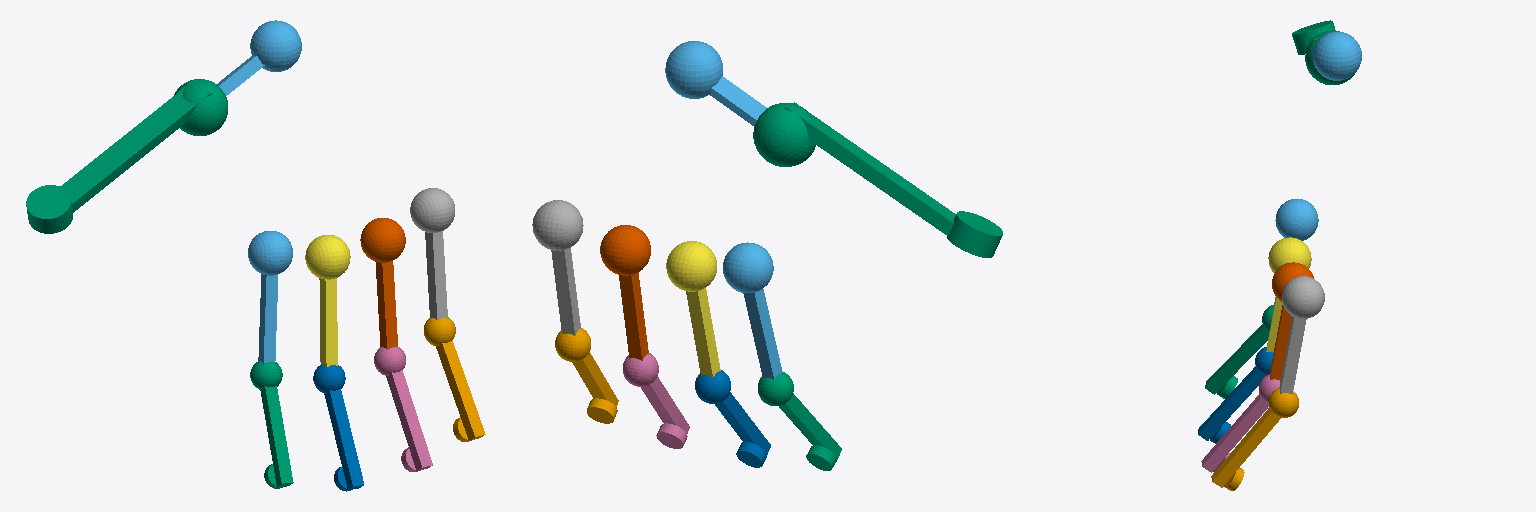
The robot description file, URDF, robot "ability_hand":
<!--
	NOTES:
	Units:
		Distance: m
		Angles: rad (only option)
		Mass: kg
		Inertia: kg*m^2
		
	Notes on intertia:
		-The inertias are calculated for uniform density with weights that may or may not be accurate.
		At the time of this writing only the thumb flexor weight is correct. The palm is a 'best guess' 
		approximation and the fingers are likely off by an order of magnitude
	
	Notes on finger q2:
		-The hand is a 4 bar linkage mechanism forming an 'X'. 4 bar linkages are not supported in the 
		urdf format. The motion of the second finger joint is fully defined by the motion of the first 
		finger joint. The calculation to find the index finger second joint angle given the first is provided
		in a matlab script elsewhere in this repository.
-->
<robot name="ability_hand">

	<link name="base" >
		<inertial>
			<mass value = "0.400"/>
			<inertia ixx="978.26e-6" ixy = "87.34e-6" ixz = "322.99e-6" iyy = "1244.78e-6" iyz = "244.74e-6" izz = "456.22e-6" />
			<origin xyz = "22.41911e-3 -0.15798201e-3 -0.01319866e-3" rpy = "0 0 0"/>
		</inertial>
						
		<visual>
			<origin rpy = "0 0 0" xyz = "0 0 0"/>
			<geometry>
				<mesh filename="models/FB_palm_ref.STL"/>
			</geometry>
		</visual>		
		<visual>
			<origin rpy = "0 0 0" xyz = "0 0 0"/>
			<geometry>
				<mesh filename="models/WRISTADAPTER.STL"/>
			</geometry>
		</visual>		
	</link>
	
	
	
	<link name="index_L1" >
		<inertial>
			<mass value = "0.00635888"/>
			<inertia ixx="0.29766e-6" ixy = "-0.06447133e-6" ixz = "-0.00423315e-6" iyy = "3.6947967e-6" iyz = "0.00083028e-6" izz = "3.8176336e-6" />
			<origin xyz = "22.41911e-3 -0.15798201e-3 -0.01319866e-3" rpy = "0 0 0"/>
		</inertial>
		<visual>
			<origin xyz = "0 0 0" rpy = "0 0 0"/>
			<geometry>
				<!--<cylinder length="8" radius="7"/>-->
				<sphere radius = "7e-3"/>
			</geometry>
		</visual>
		<visual>
			<origin xyz = "19.23500e-3 1.62500e-3 0" rpy = "0 0 0.084474"/>
			<geometry>	
				<box size = "38.6070382e-3 4e-3 4e-3"/>
			</geometry>
		</visual>
		<visual>
			<origin xyz = "38.472723e-3 3.257695e-3 0.000000" rpy = "0 0 0.084474"/>
			<geometry>
				<mesh filename="models/idx-F1.STL"/>
			</geometry>
		</visual>
	</link>
	<link name="index_L2" >
		<inertial>
			<mass value = "0.00645"/>
			<inertia ixx="0.82671e-6" ixy = "-1.08876e-6" ixz = "-0.00037e-6" iyy = "1.98028e-6" iyz = "0.00081e-6" izz = "2.64638e-6" />
			<origin rpy = "0 0 0" xyz = "13.36818e-3 -8.75392e-3 -0.02886e-3"/>
		</inertial>		
		<visual>
			<origin xyz = "0 0 0" rpy = "0 0 0"/>
			<geometry>
				<sphere radius = "5e-3"/>
			</geometry>
		</visual>
		<visual>
			<origin xyz = "15.5333e-3 -8.501e-3 0" rpy = "0 0 -0.500734962"/>
			<geometry>	
				<box size = "35.41e-3 4e-3 4e-3"/>
			</geometry>
		</visual>
		<visual>
			<origin xyz = "29.159500e-3 -11.643970e-3 -0.148280e-3" rpy = "1.5708 0 -0.420107"/>
			<geometry>
				<cylinder length = "3e-3" radius = "4e-3"/>
			</geometry>
		</visual>
		<visual>
			<origin rpy = "0 0 0" xyz = "9.1241e-3 0 0"/>
			<geometry>
				<mesh filename="models/idx-F2.STL"/>
			</geometry>
		</visual>
	</link>
	<joint name="index_q1" type="revolute">
		<parent link="base"/>
		<child link="index_L1"/>
		<origin xyz = "-9.49e-3 -13.04e-3 -62.95e-3" rpy = "-1.982050 1.284473 -2.090591" />
		<axis xyz="0 0 1"/>
		<limit lower = "0" upper = "2.0943951" effort = "0.20" velocity = "8.0677777442"/>		<!-- angles in rad, efforts in N-m, velocity in rad/s -->
		<dynamics damping = "0.001" friction = "0.001" />	<!-- Friction coefficient is not from quantitative measurement -->
	</joint>
	<joint name="index_q2" type="revolute">
		<parent link="index_L1"/>
		<child link="index_L2"/>
		<origin xyz = "38.472723e-3 3.257695e-3 0.000000e-3" rpy = "0 0 0.084474"/>
		<axis xyz="0 0 1"/>
		<limit lower = "0.0" upper = "2.6586" effort = "0.20" velocity = "8.0677777442"/>		<!-- angles in rad, efforts in N-m, velocity in rad/s -->
		<dynamics damping = "0.001" friction = "0.001" />	<!-- Friction coefficient is not from quantitative measurement -->
	</joint>
	
	

	<link name="middle_L1" >
		<inertial>
			<mass value = "0.00635888"/>
			<inertia ixx="0.29766e-6" ixy = "-0.06447133e-6" ixz = "-0.00423315e-6" iyy = "3.6947967e-6" iyz = "0.00083028e-6" izz = "3.8176336e-6" />
			<origin xyz = "22.41911e-3 -0.15798201e-3 -0.01319866e-3" rpy = "0 0 0"/>
		</inertial>
		<visual>
			<origin xyz = "0 0 0" rpy = "0 0 0"/>
			<geometry>
				<!--<cylinder length="8" radius="7"/>-->
				<sphere radius = "7e-3"/>
			</geometry>
		</visual>
		<visual>
			<origin xyz = "19.23500e-3 1.62500e-3 0" rpy = "0 0 0.084474"/>
			<geometry>	
				<box size = "38.6070382e-3 4e-3 4e-3"/>
			</geometry>
		</visual>
		
		<visual>
			<origin xyz = "38.472723e-3 3.257695e-3 0.000000" rpy = "0 0 0.084474"/>
			<geometry>
				<mesh filename="models/idx-F1.STL"/>
			</geometry>
		</visual>
		
	</link>
	<link name="middle_L2" >
		<inertial>
			<mass value = "0.00645"/>
			<inertia ixx="0.82671e-6" ixy = "-1.08876e-6" ixz = "-0.00037e-6" iyy = "1.98028e-6" iyz = "0.00081e-6" izz = "2.64638e-6" />
			<origin rpy = "0 0 0" xyz = "13.36818e-3 -8.75392e-3 -0.02886e-3"/>
		</inertial>
		<visual>
			<origin xyz = "0 0 0" rpy = "0 0 0"/>
			<geometry>
				<sphere radius = "5e-3"/>
			</geometry>
		</visual>
		<visual>
			<origin xyz = "15.5333e-3 -8.501e-3 0" rpy = "0 0 -0.500734962"/>
			<geometry>	
				<box size = "35.41e-3 4e-3 4e-3"/>
			</geometry>
		</visual>
		<visual>
			<origin xyz = "29.159500e-3 -11.643970e-3 -0.148280e-3" rpy = "1.5708 0 -0.420107"/>
			<geometry>
				<cylinder length = "3e-3" radius = "4e-3"/>
			</geometry>
		</visual>
		<visual>
			<origin rpy = "0 0 0" xyz = "9.1241e-3 0 0"/>
			<geometry>
				<mesh filename="models/idx-F2.STL"/>
			</geometry>
		</visual>
	</link>
	<joint name="middle_q1" type="revolute">
		<parent link="base"/>
		<child link="middle_L1"/>
		<origin xyz = "9.653191e-3 -15.310271e-3 -67.853949e-3" rpy = "-1.860531 1.308458 -1.896217" />
		<limit lower = "0" upper = "2.0943951" effort = "0.20" velocity = "8.0677777442"/>		<!-- angles in rad, efforts in N-m, velocity in rad/s -->
		<dynamics damping = "0.001" friction = "0.001" />	<!-- Friction coefficient is not from quantitative measurement -->
		<axis xyz="0 0 1"/>
	</joint>
	<joint name="middle_q2" type="revolute">
		<parent link="middle_L1"/>
		<child link="middle_L2"/>
		<origin xyz = "38.472723e-3 3.257695e-3 0.000000" rpy = "0 0 0.084474"/>
		<axis xyz="0 0 1"/>
		<limit lower = "0.0" upper = "2.6586" effort = "0.20" velocity = "8.0677777442"/>		<!-- angles in rad, efforts in N-m, velocity in rad/s -->
		<dynamics damping = "0.001" friction = "0.001" />	<!-- Friction coefficient is not from quantitative measurement -->
	</joint>





	<link name="ring_L1" >
		<inertial>
			<mass value = "0.00635888"/>
			<inertia ixx="0.29766e-6" ixy = "-0.06447133e-6" ixz = "-0.00423315e-6" iyy = "3.6947967e-6" iyz = "0.00083028e-6" izz = "3.8176336e-6" />
			<origin xyz = "22.41911e-3 -0.15798201e-3 -0.01319866e-3" rpy = "0 0 0"/>
		</inertial>
		<visual>
			<origin xyz = "0 0 0" rpy = "0 0 0"/>
			<geometry>
				<sphere radius = "7e-3"/>
				<!--<cylinder length="8" radius="7"/>-->
			</geometry>
		</visual>
		<visual>
			<origin xyz = "19.23500e-3 1.62500e-3 0" rpy = "0 0 0.084474"/>
			<geometry>	
				<box size = "38.6070382e-3 4e-3 4e-3"/>
			</geometry>
		</visual>
		
		<visual>
			<origin xyz = "38.472723e-3 3.257695e-3 0.000000" rpy = "0 0 0.084474"/>
			<geometry>
				<mesh filename="models/idx-F1.STL"/>
			</geometry>
		</visual>
		
		
	</link>
	<link name="ring_L2" >
		<inertial>
			<mass value = "0.00645"/>
			<inertia ixx="0.82671e-6" ixy = "-1.08876e-6" ixz = "-0.00037e-6" iyy = "1.98028e-6" iyz = "0.00081e-6" izz = "2.64638e-6" />
			<origin rpy = "0 0 0" xyz = "13.36818e-3 -8.75392e-3 -0.02886e-3"/>
		</inertial>
		<visual>
			<origin xyz = "0 0 0" rpy = "0 0 0"/>
			<geometry>
				<sphere radius = "5e-3"/>
			</geometry>
		</visual>
		<visual>
			<origin xyz = "15.5333e-3 -8.501e-3 0" rpy = "0 0 -0.500734962"/>
			<geometry>	
				<box size = "35.41e-3 4e-3 4e-3"/>
			</geometry>
		</visual>
		<visual>
			<origin xyz = "29.159500e-3 -11.643970e-3 -0.148280e-3" rpy = "1.5708 0 -0.420107"/>
			<geometry>
				<cylinder length = "3e-3" radius = "4e-3"/>
			</geometry>
		</visual>
		
		<visual>
			<origin rpy = "0 0 0" xyz = "9.1241e-3 0 0"/>
			<geometry>
				<mesh filename="models/idx-F2.STL"/>
			</geometry>
		</visual>
		
	</link>
	<joint name="ring_q1" type="revolute">
		<parent link="base"/>
		<child link="ring_L1"/>
		<origin xyz = "29.954260e-3 -14.212492e-3 -67.286105e-3" rpy = "-1.716598 1.321452 -1.675862" />
		<limit lower = "0" upper = "2.0943951" effort = "0.20" velocity = "8.0677777442"/>		<!-- angles in rad, efforts in N-m, velocity in rad/s -->
		<dynamics damping = "0.001" friction = "0.001" />	<!-- Friction coefficient is not from quantitative measurement -->
		<axis xyz="0 0 1"/>
	</joint>
	<joint name="ring_q2" type="revolute">
		<parent link="ring_L1"/>
		<child link="ring_L2"/>
		<origin xyz = "38.472723e-3 3.257695e-3 0.000000" rpy = "0 0 0.084474"/>
		<axis xyz="0 0 1"/>
		<limit lower = "0.0" upper = "2.6586" effort = "0.20" velocity = "8.0677777442"/>		<!-- angles in rad, efforts in N-m, velocity in rad/s -->
		<dynamics damping = "0.001" friction = "0.001" />	<!-- Friction coefficient is not from quantitative measurement -->
	</joint>








	<link name="pinky_L1" >
		<inertial>
			<mass value = "0.00635888"/>
			<inertia ixx="0.29766e-6" ixy = "-0.06447133e-6" ixz = "-0.00423315e-6" iyy = "3.6947967e-6" iyz = "0.00083028e-6" izz = "3.8176336e-6" />
			<origin xyz = "22.41911e-3 -0.15798201e-3 -0.01319866e-3" rpy = "0 0 0"/>
		</inertial>
		<visual>
			<origin xyz = "0 0 0" rpy = "0 0 0"/>
			<geometry>
				<sphere radius = "7e-3"/>
			</geometry>
		</visual>
		<visual>
			<origin xyz = "19.23500e-3 1.62500e-3 0" rpy = "0 0 0.084474"/>
			<geometry>	
				<box size = "38.6070382e-3 4e-3 4e-3"/>
			</geometry>
		</visual>
		
		<visual>
			<origin xyz = "38.472723e-3 3.257695e-3 0.000000" rpy = "0 0 0.084474"/>
			<geometry>
				<mesh filename="models/idx-F1.STL"/>
			</geometry>
		</visual>
		
	</link>
	<link name="pinky_L2" >
		<inertial>
			<mass value = "0.00645"/>
			<inertia ixx="0.82671e-6" ixy = "-1.08876e-6" ixz = "-0.00037e-6" iyy = "1.98028e-6" iyz = "0.00081e-6" izz = "2.64638e-6" />
			<origin rpy = "0 0 0" xyz = "13.36818e-3 -8.75392e-3 -0.02886e-3"/>
		</inertial>
		<visual>
			<origin xyz = "0 0 0" rpy = "0 0 0"/>
			<geometry>
				<sphere radius = "5e-3"/>
			</geometry>
		</visual>
		<visual>
			<origin xyz = "15.5333e-3 -8.501e-3 0" rpy = "0 0 -0.500734962"/>
			<geometry>	
				<box size = "35.41e-3 4e-3 4e-3"/>
			</geometry>
		</visual>
		<visual>
			<origin xyz = "29.159500e-3 -11.643970e-3 -0.148280e-3" rpy = "1.5708 0 -0.420107"/>
			<geometry>
				<cylinder length = "3e-3" radius = "4e-3"/>
			</geometry>
		</visual>
		
		<visual>
			<origin rpy = "0 0 0" xyz = "9.1241e-3 0 0"/>
			<geometry>
				<mesh filename="models/idx-F2.STL"/>
			</geometry>
		</visual>
		
	</link>
	<joint name="pinky_q1" type="revolute">
		<parent link="base"/>
		<child link="pinky_L1"/>
		<origin xyz = "49.521293e-3 -11.004583e-3 -63.029065e-3" rpy = "-1.765110 1.322220 -1.658383" />
		<limit lower = "0" upper = "2.0943951" effort = "0.20" velocity = "8.0677777442"/>		<!-- angles in rad, efforts in N-m, velocity in rad/s -->
		<dynamics damping = "0.001" friction = "0.001" />	<!-- Friction coefficient is not from quantitative measurement -->
		<axis xyz="0 0 1"/>
	</joint>
	<joint name="pinky_q2" type="revolute">
		<parent link="pinky_L1"/>
		<child link="pinky_L2"/>
		<origin xyz = "38.472723e-3 3.257695e-3 0.000000" rpy = "0 0 0.084474"/>
		<limit lower = "0.0" upper = "2.6586" effort = "0.20" velocity = "8.0677777442"/>		<!-- angles in rad, efforts in N-m, velocity in rad/s -->
		<dynamics damping = "0.001" friction = "0.001" />	<!-- Friction coefficient is not from quantitative measurement -->
		<axis xyz="0 0 1"/>
	</joint>






	<link name="thumb_L1" >
		<inertial>
			<mass value = "0.00268342"/>
			<inertia ixx="0.16931e-6" ixy = "-0.076214e-6" ixz = "-0.16959148e-6" iyy = "0.77769934e-6" iyz = "0.0156622e-6" izz = "0.7249122e-6" />
			<origin rpy = "0 0 0" xyz = "14.606e-3 -1.890854e-3 -3.1155356e-3"/>
		</inertial>
		<visual>
			<origin xyz = "13.851489e-3 -1.900374e-3 -6.866140e-3" rpy = "0.490960 0.456500 -0.136345" />
			<geometry>
				<box size = "31.15246724e-3 5e-3 4e-3"/>
			</geometry>
		</visual>
		<visual>
			<origin xyz = "0 0 0" rpy = "0 0 0"/>
			<geometry>
				<sphere radius = "8e-3"/>
				<!--<cylinder length = "14" radius = "7"/>-->
			</geometry>
		</visual>
		
		<visual>
			<origin xyz = "27.8283501e-3 0 -14.7507000e-3" rpy = "4.450589592585541 0 0" />
			<geometry>
				<mesh filename="models/thumb-F1.STL"/>
			</geometry>
		</visual>
		
	</link>
	<link name="thumb_L2" >
		<inertial>
			<mass value = "0.0055"/>
			<inertia ixx="4.4789082e-6" ixy = "4.4789082e-6" ixz = "-0.62144934e-6" iyy = "15.600996e-6" iyz = "-0.07466143e-6" izz = "17.908554e-6" />
			<origin rpy = "0 0 0" xyz = "30.020522e-3 5.59476e-3 -4.1504356e-3"/>
		</inertial>
		<visual>
			<origin xyz = "0 0 -3.93482782e-3" rpy = "0 0 0"/> <!-- rotation axis cylinder -->
			<geometry>
				<sphere radius = "8.9e-3"/>
				<!--<cylinder length = "7" radius = "8.9"/>-->
			</geometry>
		</visual>
		<visual>
			<origin xyz = "26.851927e-3 6.766622e-3 -3.934828e-3" rpy = "0.000000 -0.000000 0.462507" />
			<geometry>
				<box size = "60.93e-3 4e-3 8e-3"/>
			</geometry>
		</visual>
		<visual>
			<origin xyz = "56.730453e-3 19.890903e-3 -3.934828e-3" rpy = "1.570800 -0.000000 0.343830" />
			<geometry>
				<cylinder length = "7e-3" radius = "7e-3"/>
			</geometry>
		</visual>
		
		<visual>
			<origin xyz = "65.18669e-3 23.34021e-3 -3.93483e-3" rpy = "3.141592 0 0.343830"/>
			<geometry>
				<mesh filename="models/thumb-F2.STL"/>
			</geometry>
		</visual>
		
	</link>
	<joint name="thumb_q1" type="revolute">
		<parent link="base"/>
		<child link="thumb_L1"/>
		<origin xyz = "0 0 0" rpy = "0 0 3.330437"/>
		<axis xyz="0 0 1"/>
		<limit lower = "-2.0943951" upper = "0" effort = "0.20" velocity = "8.0677777442"/>		<!-- angles in rad, efforts in N-m, velocity in rad/s -->
		<dynamics damping = "0.001" friction = "0.001" />	<!-- Friction coefficient is not from quantitative measurement -->
	</joint>
	<joint name="thumb_q2" type="revolute">
		<parent link="thumb_L1"/>
		<child link="thumb_L2"/>
		<origin xyz = "27.8283501e-3 0 -14.7507000e-3" rpy = "4.450589592585541 0 0" />
		<axis xyz="0 0 1"/>
		<limit lower = "0" upper = "2.0943951" effort = "0.20" velocity = "8.0677777442"/>		<!-- angles in rad, efforts in N-m, velocity in rad/s -->
		<dynamics damping = "0.001" friction = "0.001" />	<!-- Friction coefficient is not from quantitative measurement -->		
	</joint>
</robot>

--- What the picture shows (computed from the rendered views, not written in the file) ---
3 views of the same robot in one strip: view 1: azimuth 30°, elevation 25°; view 2: azimuth 150°, elevation 25°; view 3: azimuth 270°, elevation 25° (orthographic).
Model ability_hand with 11 links and 10 joints (10 revolute), rooted at base, posed every joint at zero.
Visible links, largest first — view 1: thumb_L2, pinky_L1, ring_L1, middle_L1, index_L1, pinky_L2, thumb_L1, ring_L2, middle_L2, index_L2; view 2: thumb_L2, thumb_L1, index_L1, middle_L1, ring_L1, pinky_L1, index_L2, middle_L2, ring_L2, pinky_L2; view 3: pinky_L1, pinky_L2, thumb_L1, middle_L2, ring_L2, index_L2, ring_L1, middle_L1, index_L1, thumb_L2.
Boxes of the visible links, x1,y1,x2,y2 form: thumb_L2: [26, 79, 227, 233]; pinky_L1: [410, 188, 454, 319]; ring_L1: [360, 218, 405, 349]; middle_L1: [305, 235, 350, 367]; index_L1: [248, 231, 292, 363]; pinky_L2: [424, 317, 485, 441]; thumb_L1: [217, 20, 301, 95]; ring_L2: [374, 347, 432, 471]; middle_L2: [313, 364, 363, 491]; index_L2: [250, 361, 293, 488]; thumb_L2: [753, 102, 1002, 257]; thumb_L1: [665, 41, 766, 126]; index_L1: [723, 242, 782, 379]; middle_L1: [666, 241, 720, 377]; ring_L1: [600, 225, 650, 360]; pinky_L1: [532, 200, 583, 335]; index_L2: [758, 372, 841, 470]; middle_L2: [695, 370, 770, 467]; ring_L2: [623, 353, 689, 448]; pinky_L2: [555, 328, 618, 423]; pinky_L1: [1279, 276, 1324, 394]; pinky_L2: [1211, 388, 1298, 490]; thumb_L1: [1313, 31, 1361, 80]; middle_L2: [1198, 347, 1273, 443]; ring_L2: [1201, 374, 1279, 472]; index_L2: [1205, 305, 1273, 398]; ring_L1: [1270, 262, 1313, 380]; middle_L1: [1266, 237, 1311, 351]; index_L1: [1273, 199, 1318, 310]; thumb_L2: [1292, 20, 1354, 84].
Size in the robot's own frame: 0.1489 by 0.0531 by 0.1447 metres.
0 mesh visuals loaded from 6 distinct referenced files (none loaded); not drawn: 12 (reference not matched to a file when rendering).
